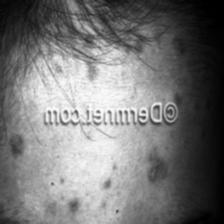Non-Cancerous Skin Condition: (0, 32, 150, 85), (52, 167, 130, 224), (166, 28, 194, 104), (141, 136, 180, 190), (2, 130, 32, 166)
